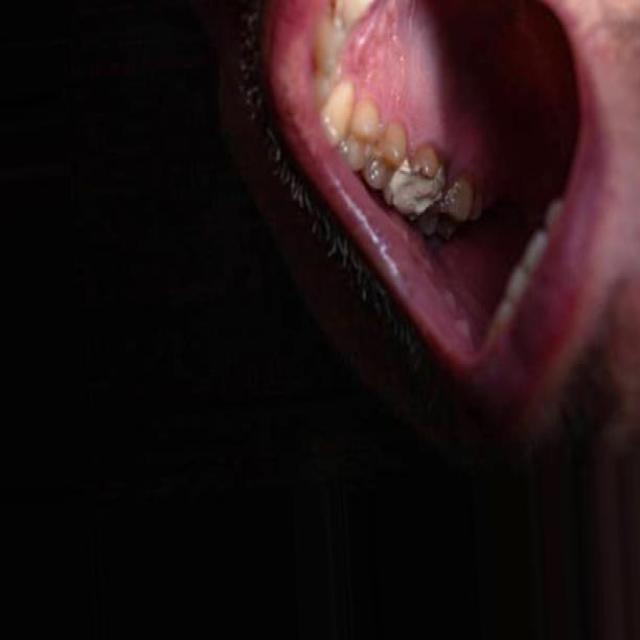caries: (386, 153, 445, 219)
